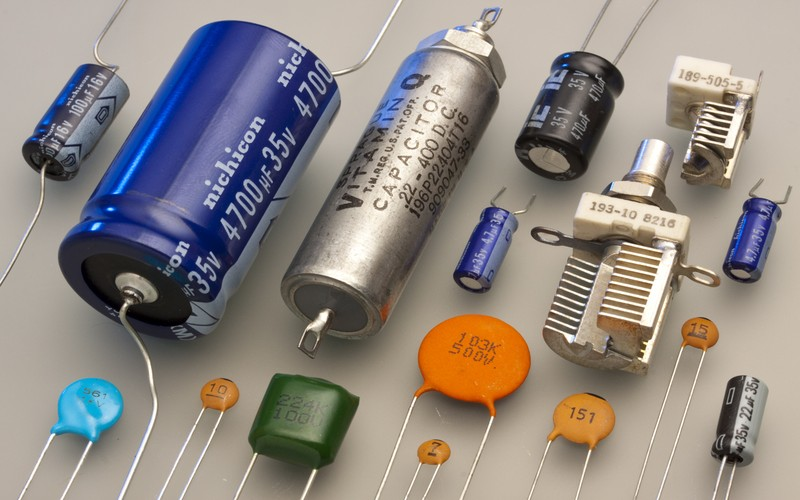Capacitor: (57, 0, 340, 352), (277, 0, 506, 345), (362, 303, 532, 500), (496, 30, 641, 184), (627, 309, 731, 500), (234, 358, 370, 500), (15, 362, 132, 500), (15, 49, 132, 186), (691, 170, 800, 288), (702, 354, 789, 500), (163, 367, 247, 500), (525, 388, 619, 500), (449, 177, 536, 294), (409, 428, 457, 500)
